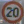20 km speed: (1, 1, 23, 24)
